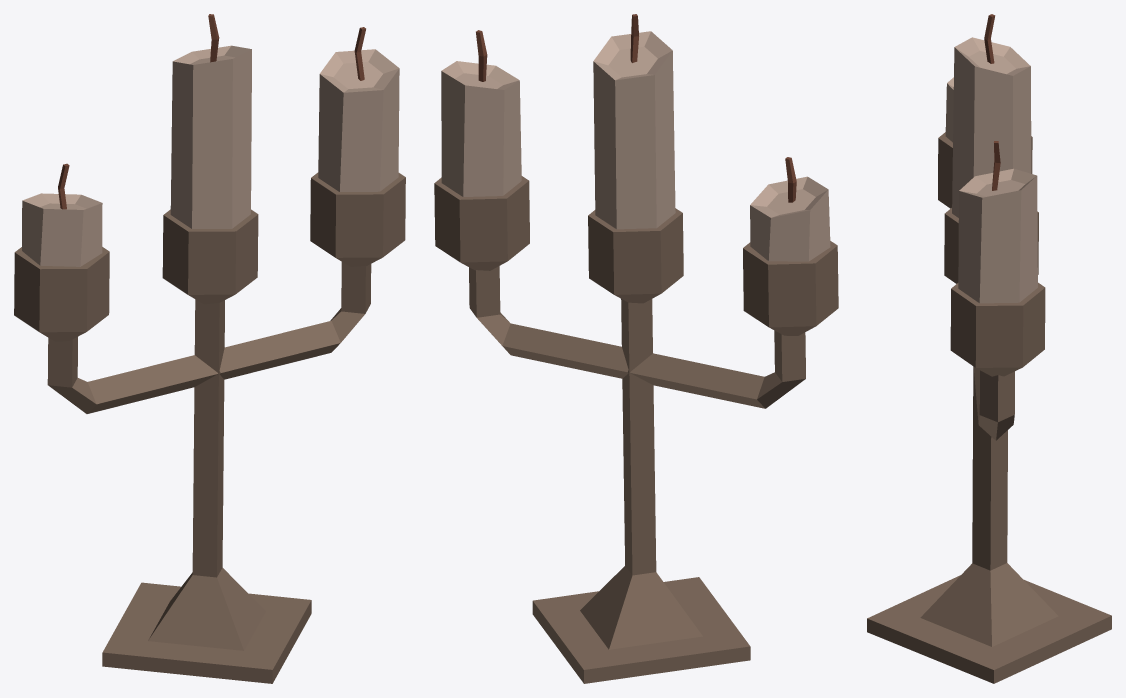
File: Chandelier 1.glb
3 views of the same model, side by side, from view 1: azimuth 30°, elevation 25°; view 2: azimuth 150°, elevation 25°; view 3: azimuth 270°, elevation 25° (orthographic).
Parts seen in each view (by area): view 1: Chandelier 1; view 2: Chandelier 1; view 3: Chandelier 1.
Boxes of the visible parts, box(x1,y1,x2,y2) form: Chandelier 1: box(14, 14, 405, 683); Chandelier 1: box(434, 14, 838, 683); Chandelier 1: box(867, 14, 1111, 683).
Size of what is drawn, in the model's own units: 0.43 by 0.6819 by 0.2444.
1 material, 1 textured.
